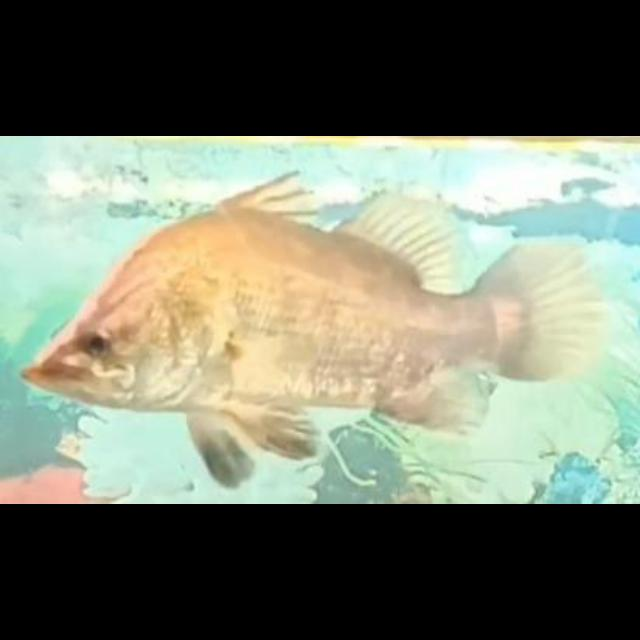Seabass: (16, 165, 608, 480)
